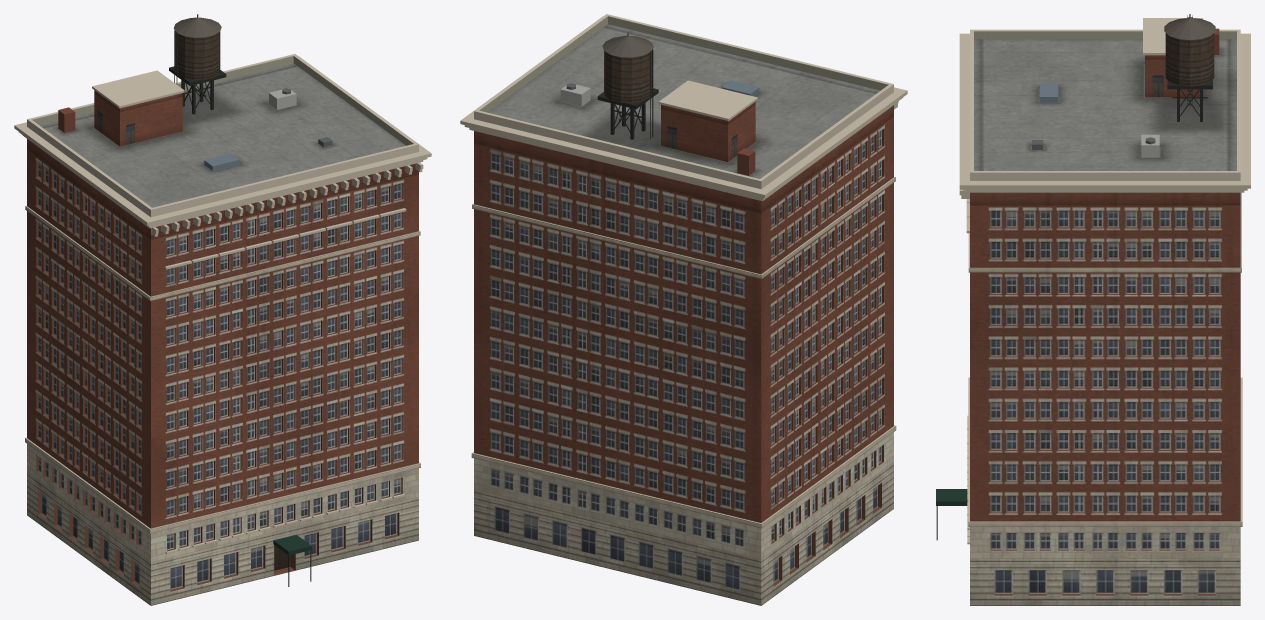
Rendered from nyc_prewar_a.glb.
3 views of the same model, side by side, from view 1: azimuth 30°, elevation 25°; view 2: azimuth 150°, elevation 25°; view 3: azimuth 270°, elevation 25° (orthographic). The views are drawn at different scales.
Visible parts, largest first — view 1: nyc_prewar_a; view 2: nyc_prewar_a; view 3: nyc_prewar_a.
Part boxes in pixels (x1,y1,x2,y2): nyc_prewar_a: (14, 14, 431, 605); nyc_prewar_a: (460, 14, 907, 605); nyc_prewar_a: (936, 14, 1250, 605).
Size of the model in its own units: 31.8 by 51.55 by 27.9.
1 material, 1 textured.
